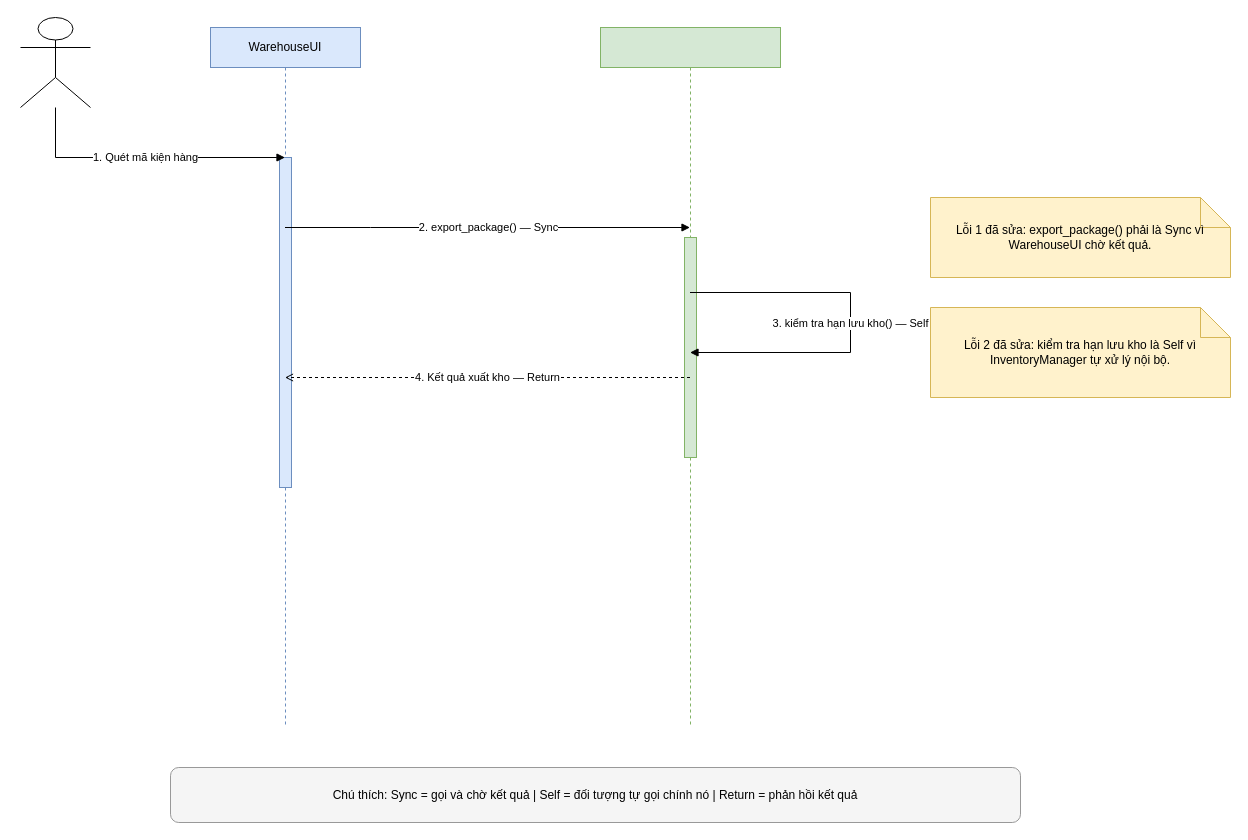
Some shapes in this 1248 by 840 pixel diagram are drawn without their labels. Here are the shapes that lost their labels. From the top down, the box of each, then its label:
(20, 16, 90, 108): Nhân viên kho
(600, 26, 780, 728): InventoryManager
